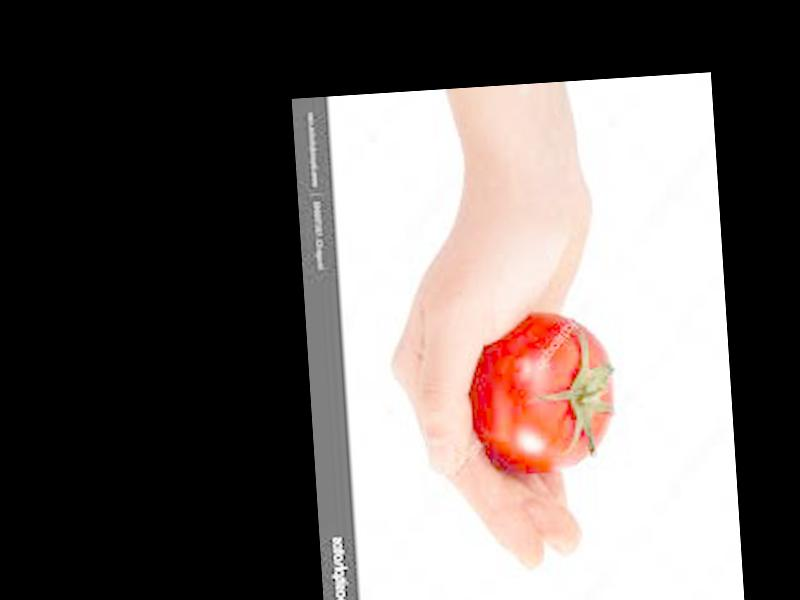Tomato: (467, 306, 617, 472)
